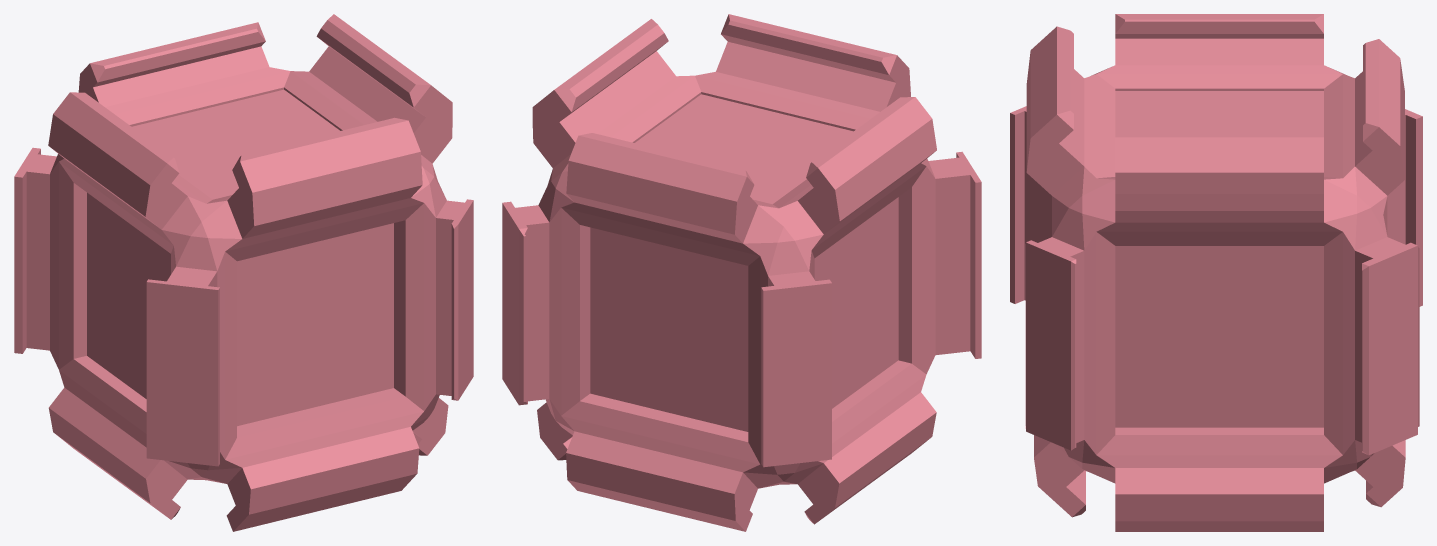
The picture shows the model from 3 angles, left to right: view 1: azimuth 30°, elevation 25°; view 2: azimuth 150°, elevation 25°; view 3: azimuth 270°, elevation 25°; orthographic projection. The views are drawn at different scales.
Parts seen in each view (by area): view 1: Cube; view 2: Cube; view 3: Cube.
Boxes of the visible parts, x1,y1,x2,y2 form: Cube: [14, 14, 473, 531]; Cube: [502, 14, 981, 531]; Cube: [1010, 14, 1422, 531].
Size of the model in its own units: 8.42 by 9.01 by 8.29.
